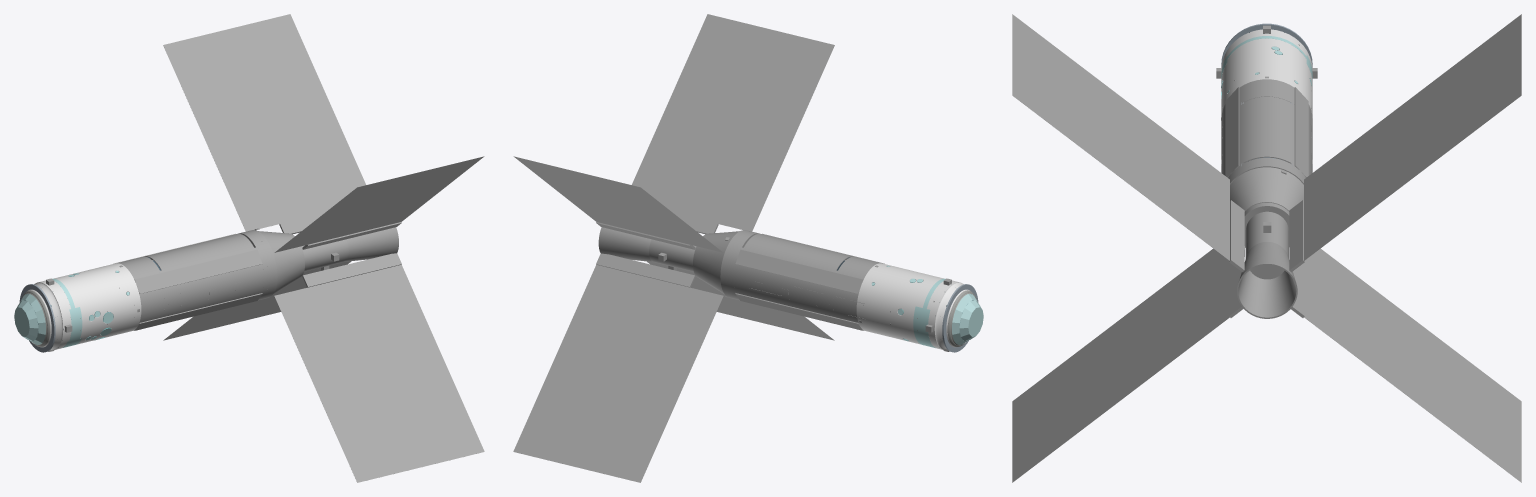
The model's file is wayfarer_shuttle_hold_fullship_88ce19fc_stowed_stowed.glb.
The picture shows the model from 3 angles, left to right: view 1: azimuth 30°, elevation 25°; view 2: azimuth 150°, elevation 25°; view 3: azimuth 270°, elevation 25°; orthographic projection. The views are drawn at different scales.
Visible parts, largest first — view 1: dry:hotfin_220:folded_envelope, dry:hotfin_40:folded_envelope, dry:hotfin_140:folded_envelope, dry:armor, dry:skin_midship, dry:hotfin_320:folded_envelope, dry:strake_140:stowed_stack, dry:thrust_cone, dry:skin_service, dry:door_port, dry:hotfin_root_220:root, dry:nozzle (+4 smaller); view 2: dry:hotfin_320:folded_envelope, dry:hotfin_140:folded_envelope, dry:hotfin_40:folded_envelope, dry:armor, dry:skin_midship, dry:hotfin_220:folded_envelope, dry:strake_40:stowed_stack, dry:skin_service, dry:thrust_cone, dry:door_starboard, dry:hotfin_root_320:root, dry:nozzle (+4 smaller); view 3: dry:hotfin_40:folded_envelope, dry:hotfin_140:folded_envelope, dry:hotfin_220:folded_envelope, dry:hotfin_320:folded_envelope, dry:armor, dry:nozzle, dry:thrust_cone, dry:reactor, dry:door_port, dry:door_starboard, dry:skin_service, dry:strake_40:stowed_stack (+7 smaller).
Part boxes in pixels (x1,y1,x2,y2): dry:hotfin_220:folded_envelope: (274,264,484,482); dry:hotfin_40:folded_envelope: (163,14,365,231); dry:hotfin_140:folded_envelope: (274,156,484,252); dry:armor: (23,263,141,350); dry:skin_midship: (160,247,263,316); dry:hotfin_320:folded_envelope: (163,261,351,340); dry:strake_140:stowed_stack: (134,249,262,293); dry:thrust_cone: (258,231,304,293); dry:skin_service: (117,256,168,330); dry:door_port: (152,236,253,270); dry:hotfin_root_220:root: (302,253,401,287); dry:nozzle: (345,227,398,261); dry:hotfin_320:folded_envelope: (513,264,723,482); dry:hotfin_140:folded_envelope: (632,14,834,231); dry:hotfin_40:folded_envelope: (513,156,723,252); dry:armor: (856,263,974,350); dry:skin_midship: (734,247,837,316); dry:hotfin_220:folded_envelope: (647,261,834,340); dry:strake_40:stowed_stack: (735,249,863,293); dry:skin_service: (829,256,880,330); dry:thrust_cone: (693,231,739,293); dry:door_starboard: (744,236,845,270); dry:hotfin_root_320:root: (596,253,695,287); dry:nozzle: (598,227,652,261); dry:hotfin_40:folded_envelope: (1304,14,1521,260); dry:hotfin_140:folded_envelope: (1012,14,1229,260); dry:hotfin_220:folded_envelope: (1012,248,1229,482); dry:hotfin_320:folded_envelope: (1304,248,1521,482); dry:armor: (1221,29,1312,117); dry:nozzle: (1237,242,1297,318); dry:thrust_cone: (1230,167,1303,247); dry:reactor: (1245,211,1288,279); dry:door_port: (1242,97,1266,163); dry:door_starboard: (1267,97,1291,163); dry:skin_service: (1221,79,1312,135); dry:strake_40:stowed_stack: (1294,87,1308,177).
Size of the model in its own units: 54.5 by 42.11 by 50.18.
